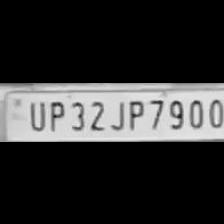0: (186, 94, 204, 128), (204, 94, 222, 128)
2: (86, 96, 106, 130)
3: (66, 97, 86, 131)
7: (146, 94, 164, 130)
9: (165, 95, 185, 129)
J: (106, 96, 124, 130)
P: (44, 97, 66, 131), (124, 96, 144, 130)
U: (24, 96, 46, 130)
